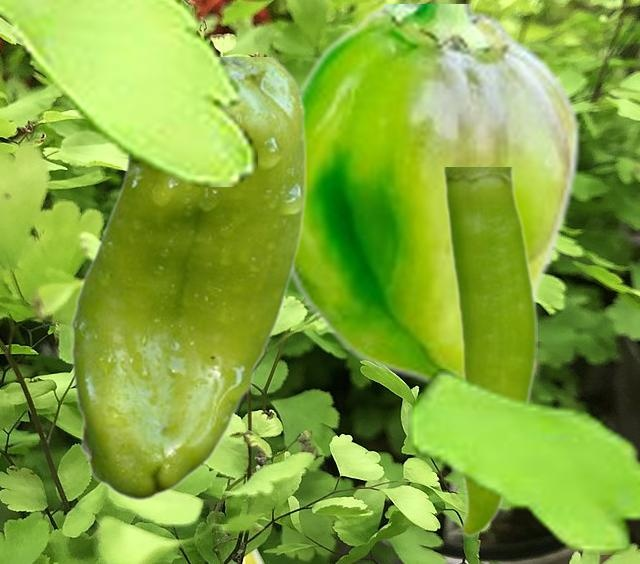green_chili: (289, 4, 581, 386), (70, 57, 305, 500), (440, 167, 536, 537)
